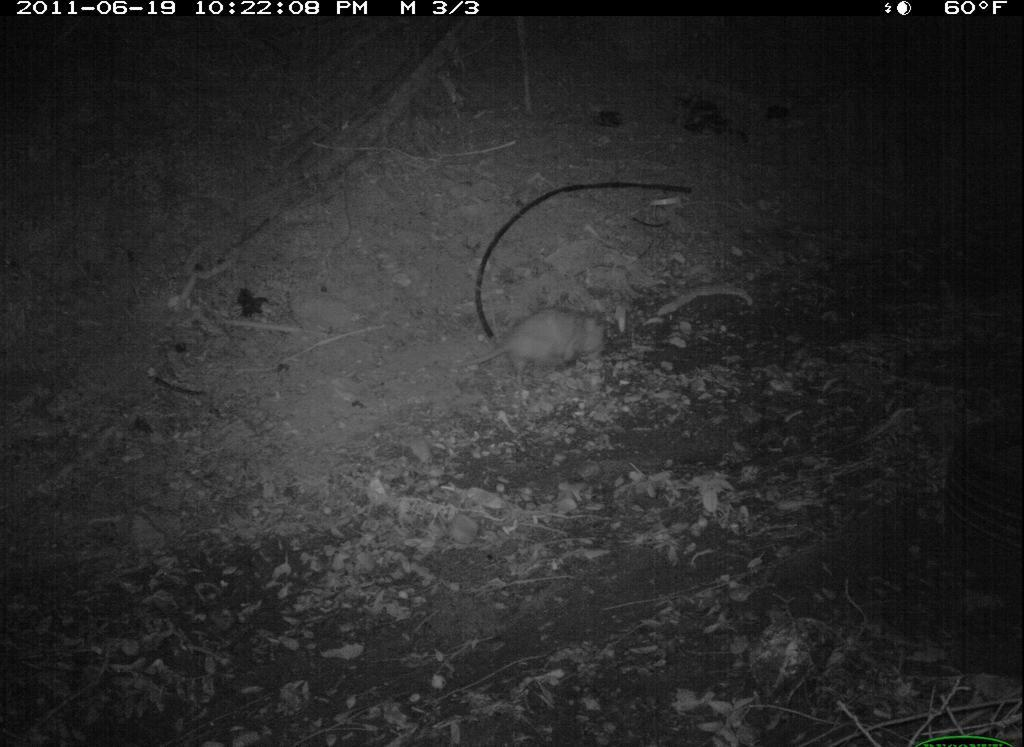opossum: (442, 305, 621, 393)
